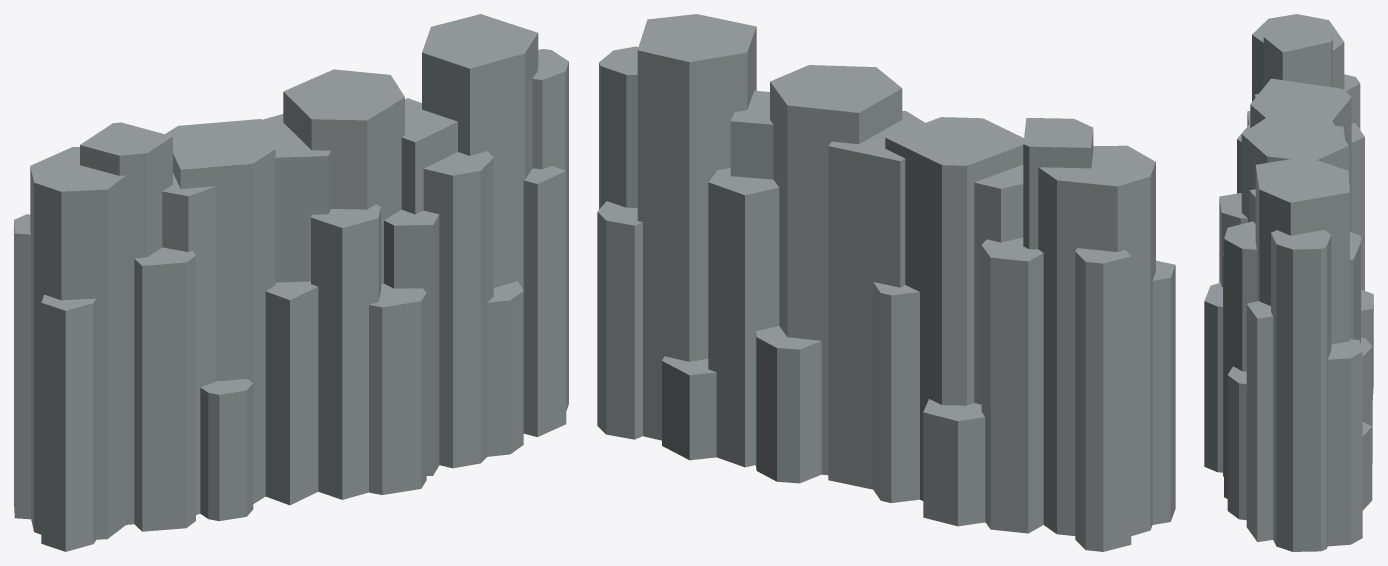
Rendered from NHP_Rock_Wall_A1_01.fbx.
The picture shows the model from 3 angles, left to right: view 1: azimuth 30°, elevation 25°; view 2: azimuth 150°, elevation 25°; view 3: azimuth 270°, elevation 25°; orthographic projection. The views are drawn at different scales.
Parts seen in each view (by area): view 1: NHP_Rock_Wall_A1_01; view 2: NHP_Rock_Wall_A1_01; view 3: NHP_Rock_Wall_A1_01.
Part boxes in pixels (bbox=[...]): NHP_Rock_Wall_A1_01: bbox=[14, 14, 568, 551]; NHP_Rock_Wall_A1_01: bbox=[597, 14, 1175, 551]; NHP_Rock_Wall_A1_01: bbox=[1204, 14, 1373, 551].
Bounding box in the file's own units: 17.9 × 12.06 × 5.51.
